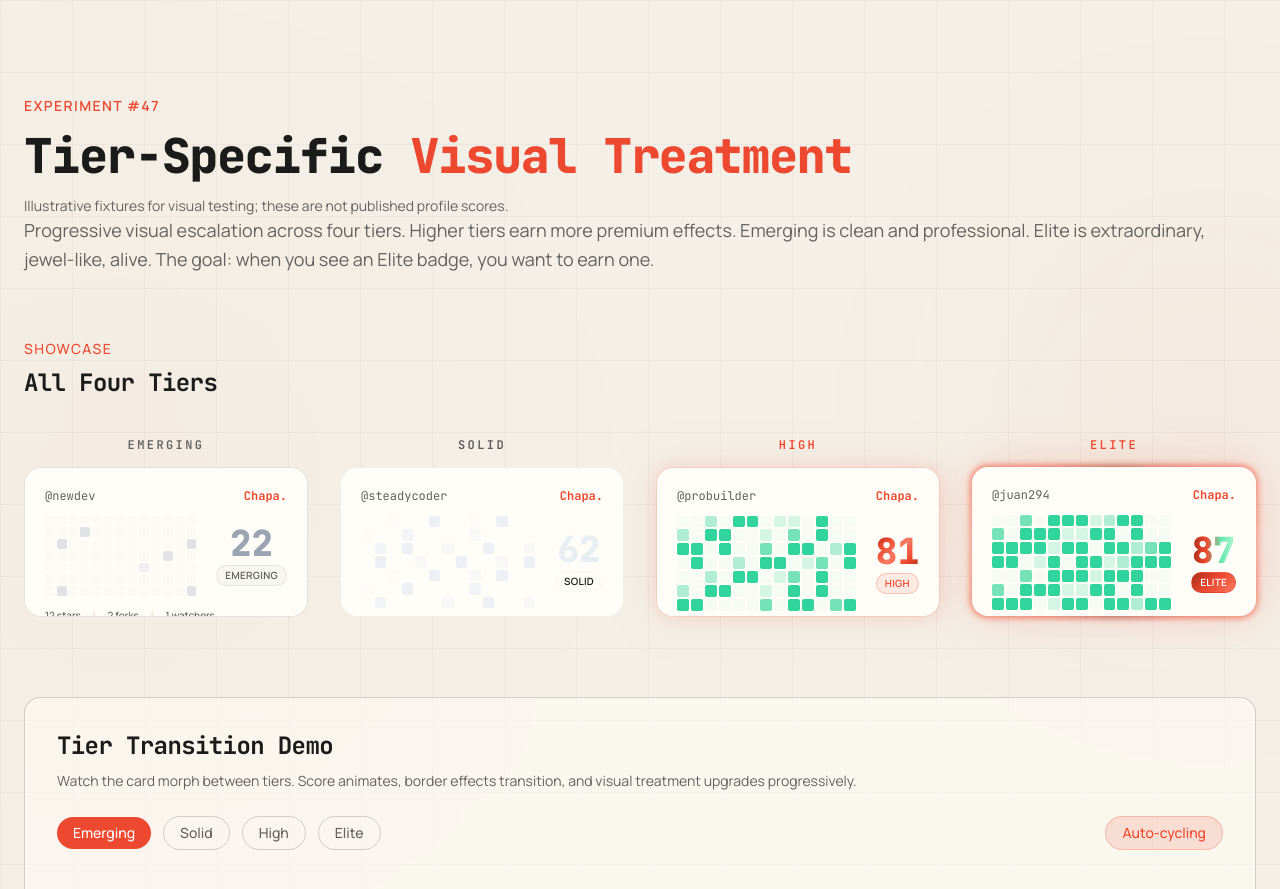
tier-visuals experiment page › lets users select tiers and toggle autoplay
Click the button "High": (274, 833) [242,816,306,850]
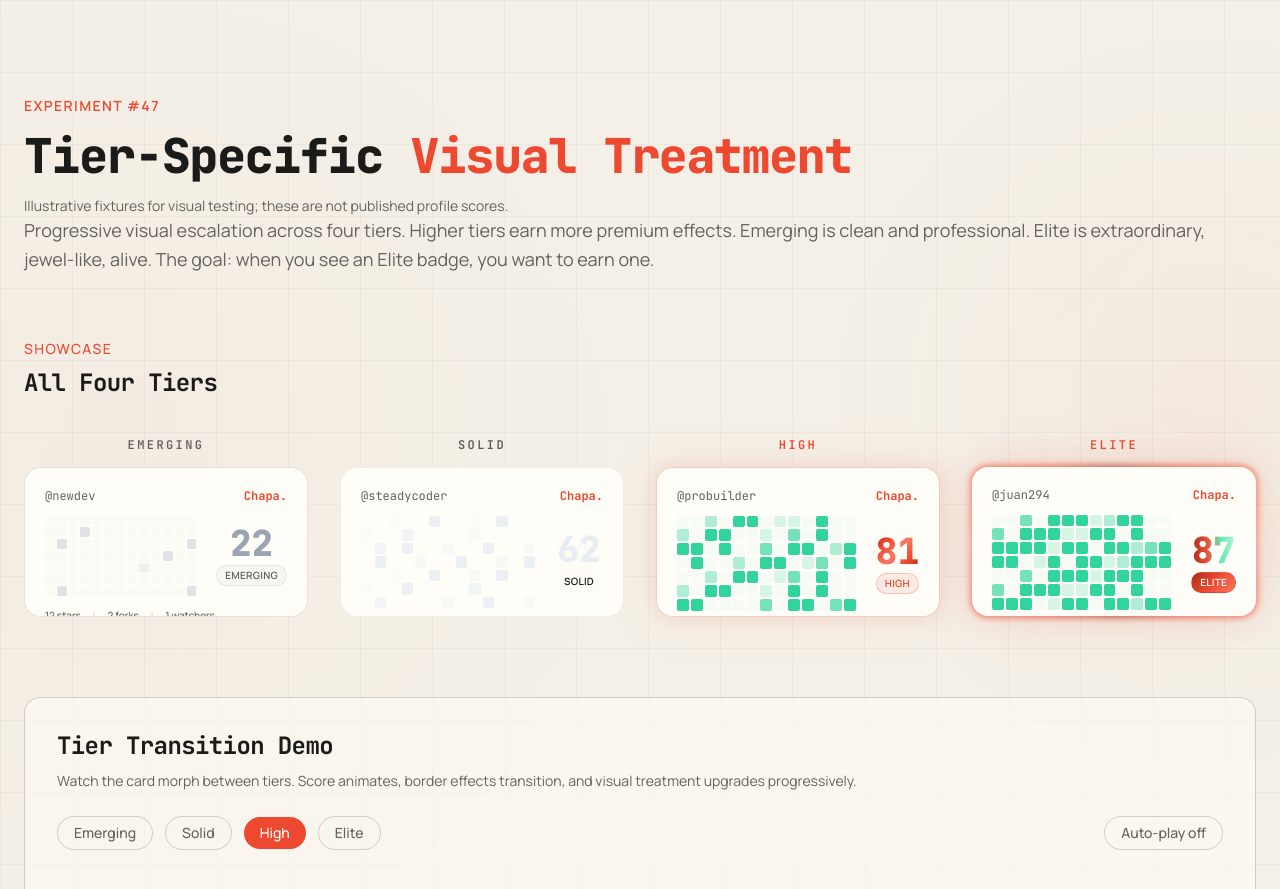
Now the button "Auto-play off" is shown
Click the button "Auto-play off": (1164, 833) [1104,816,1223,850]
Wait 3000 ms
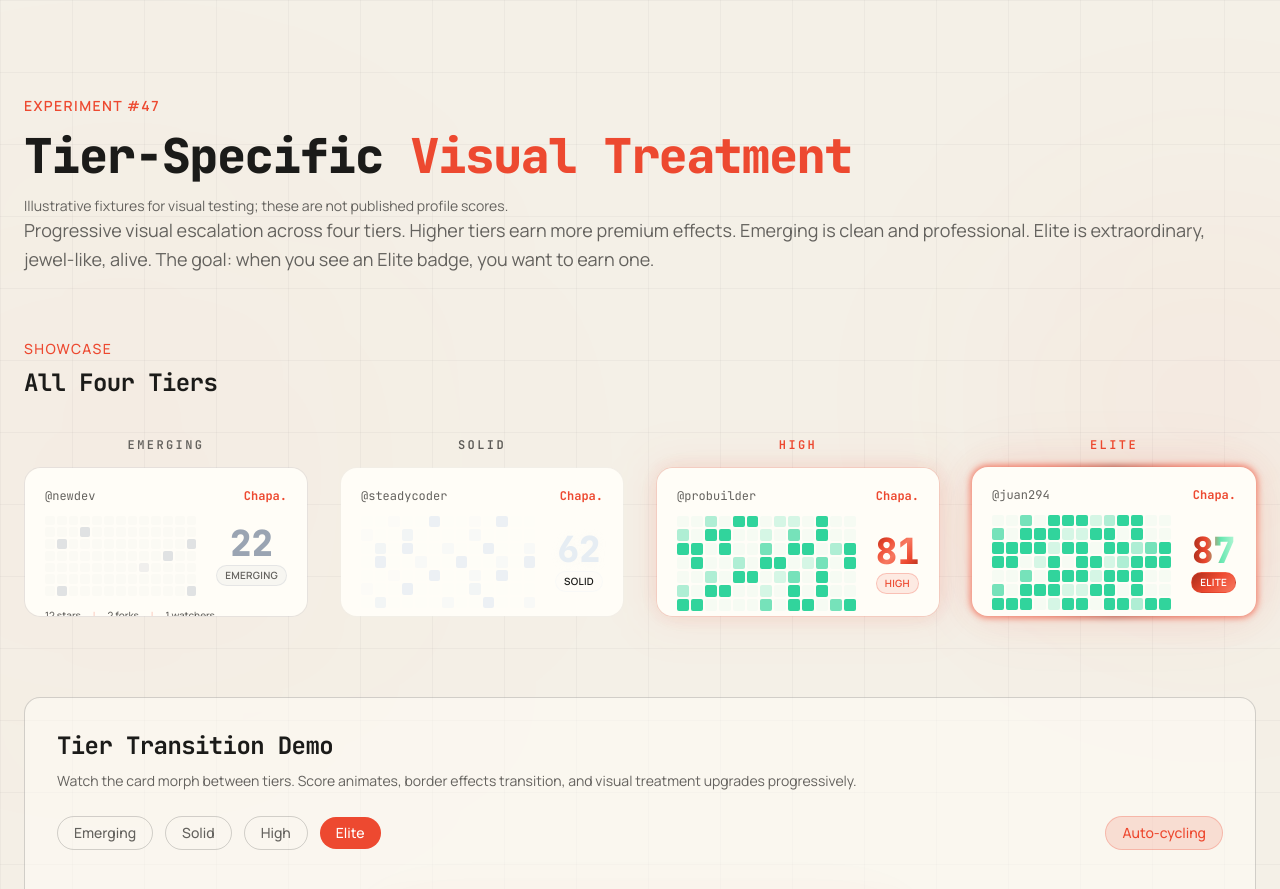
Now the button "Auto-cycling" is shown, box [1106,816,1223,850]
